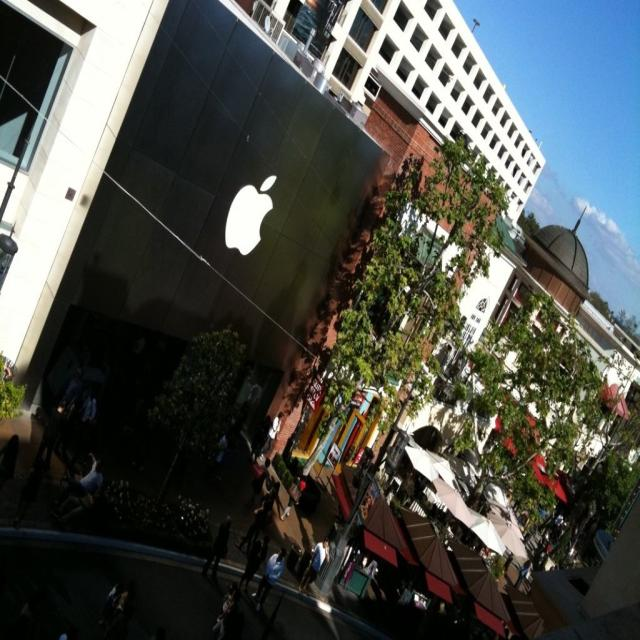apple: (222, 171, 282, 263)
